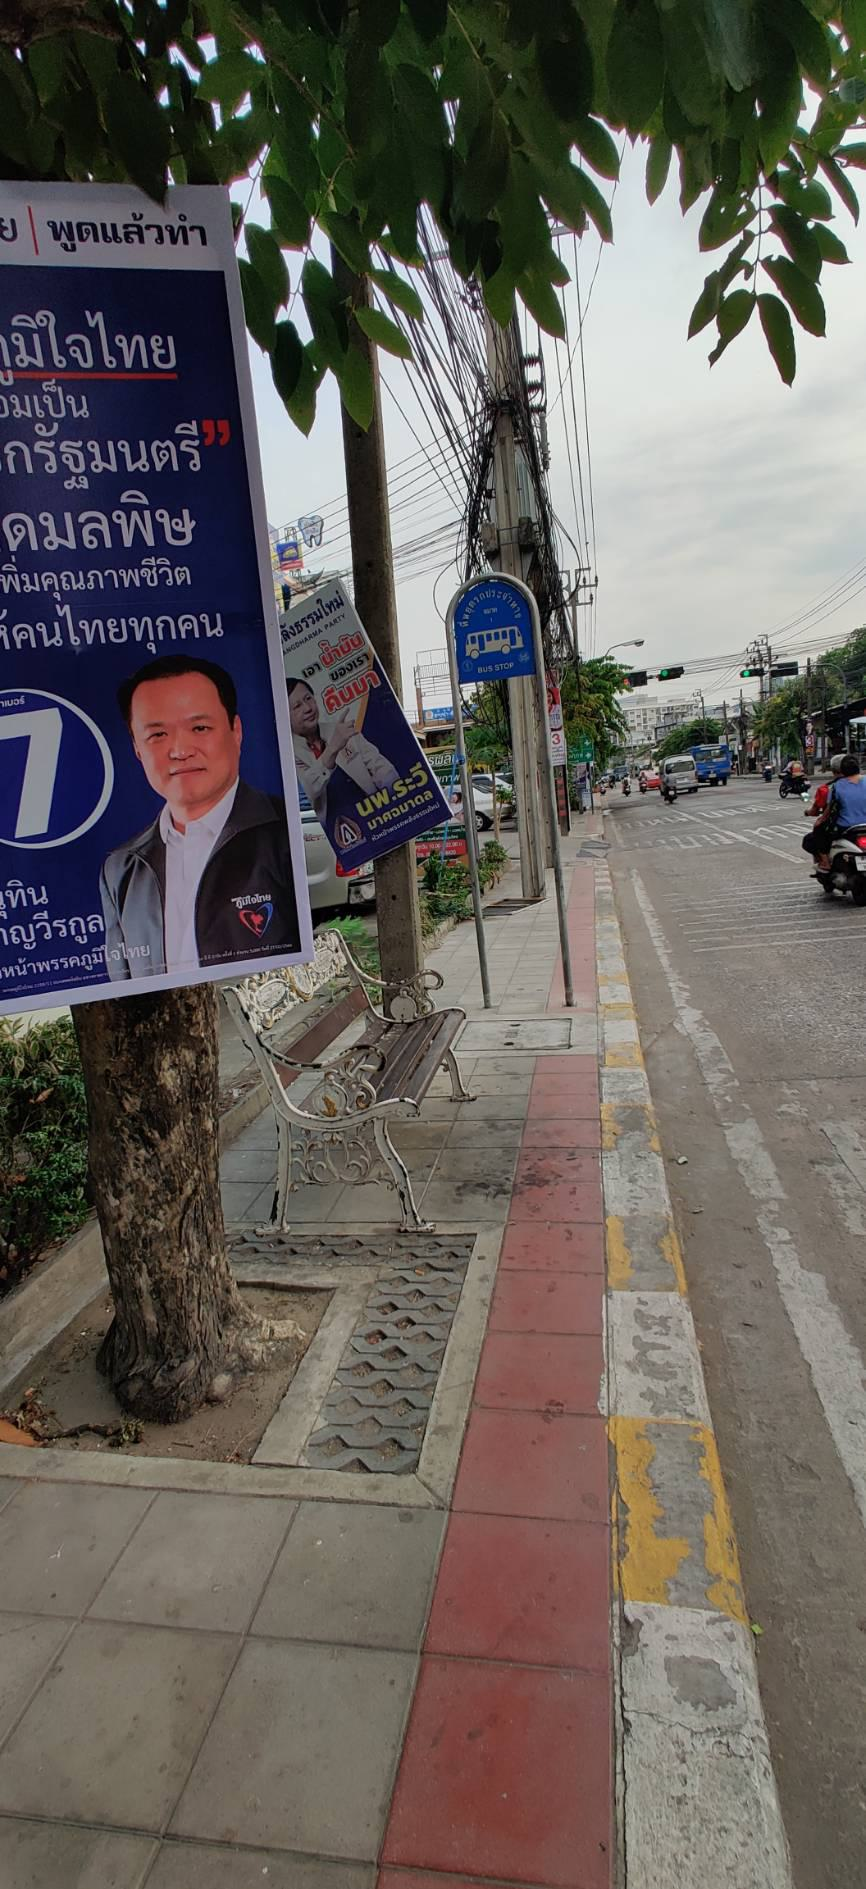Banner: (0, 180, 326, 990)
